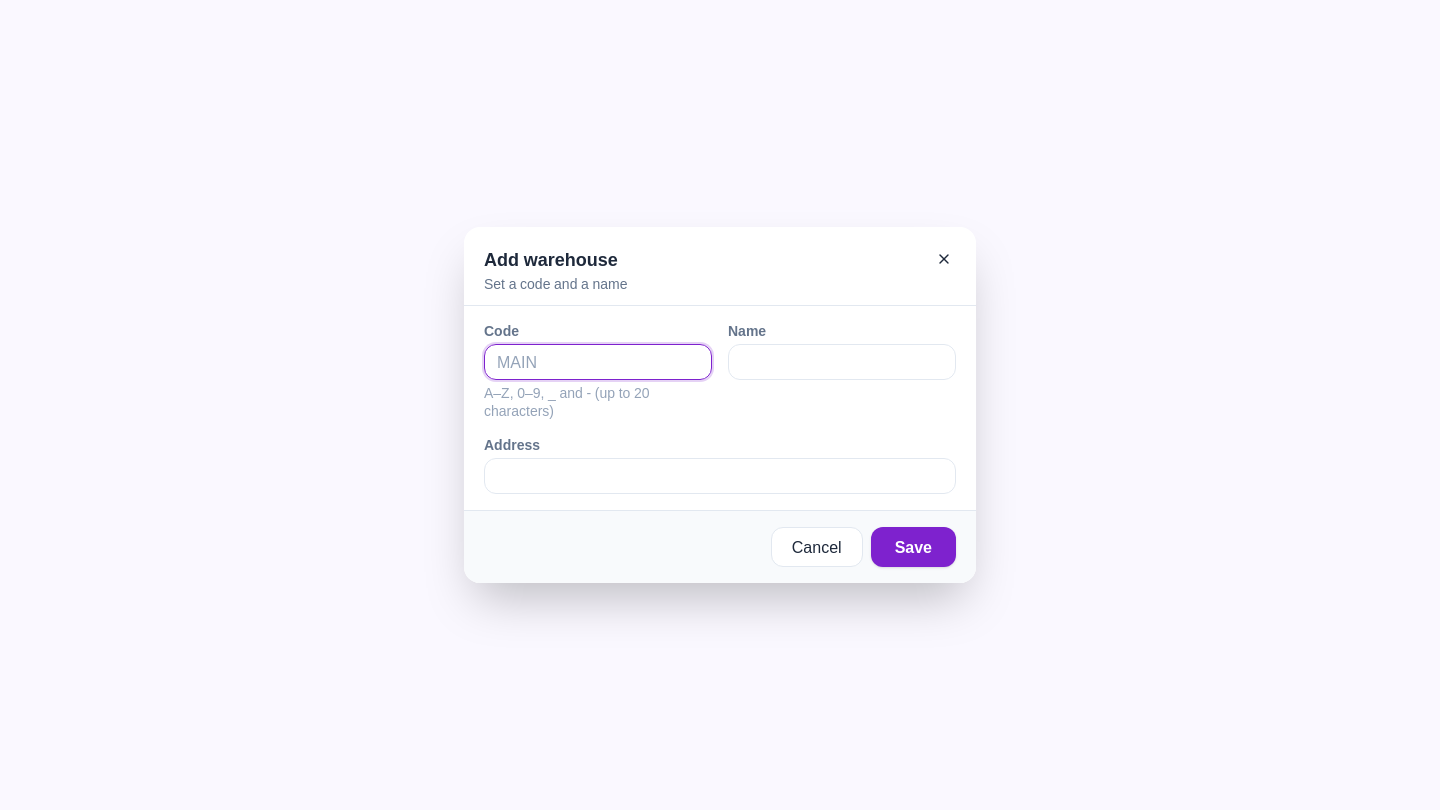
Test case: WarehouseFormDialog › ລະຫັດຜິດຮູບແບບ ບໍ່ສົ່ງ API ແລະ ສະແດງ error ຂອງ field
In the field labelled "Code": {"x": 598, "y": 362} [484,344,712,380], type "bad code!"
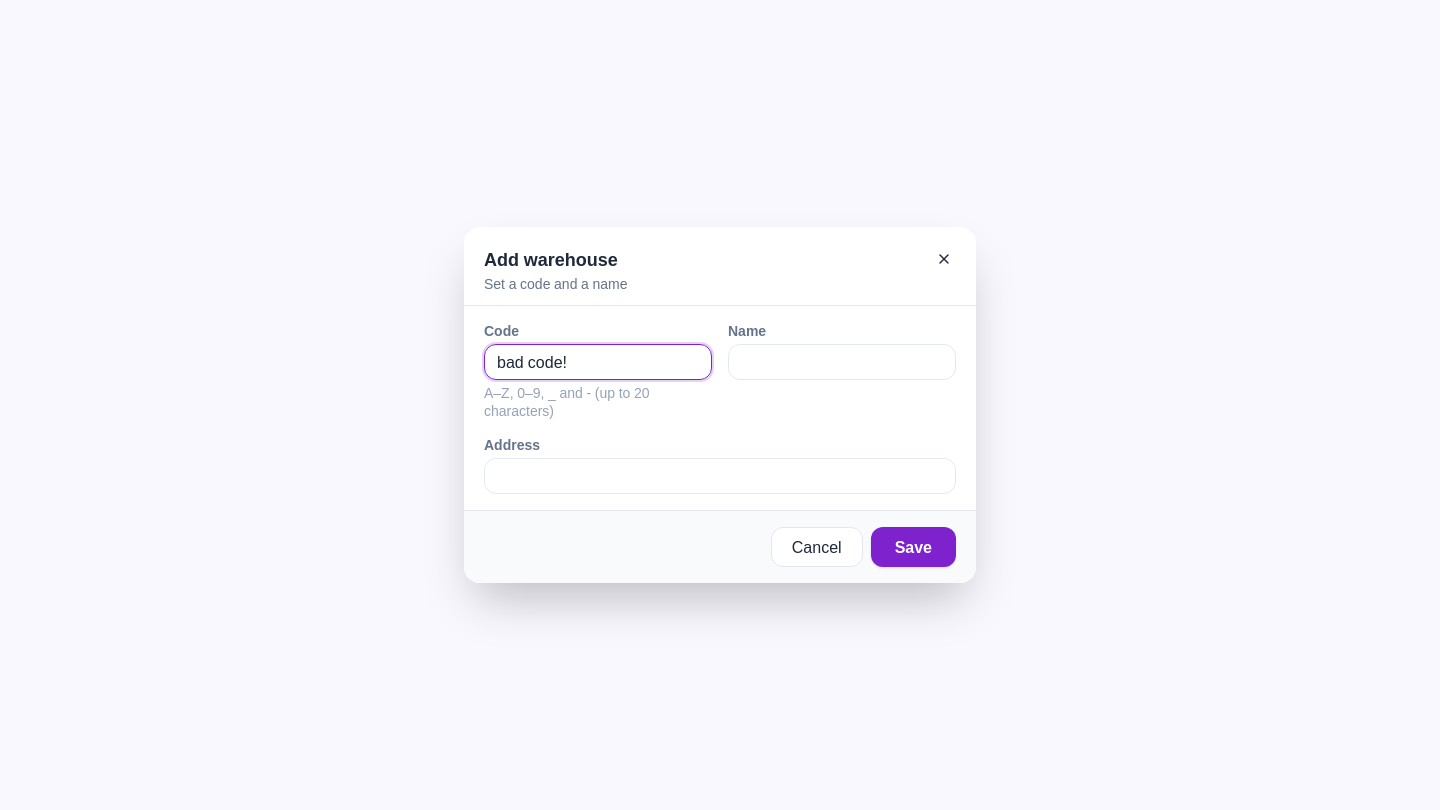
In the field labelled "Name": {"x": 842, "y": 362} [728,344,956,380], type "X"
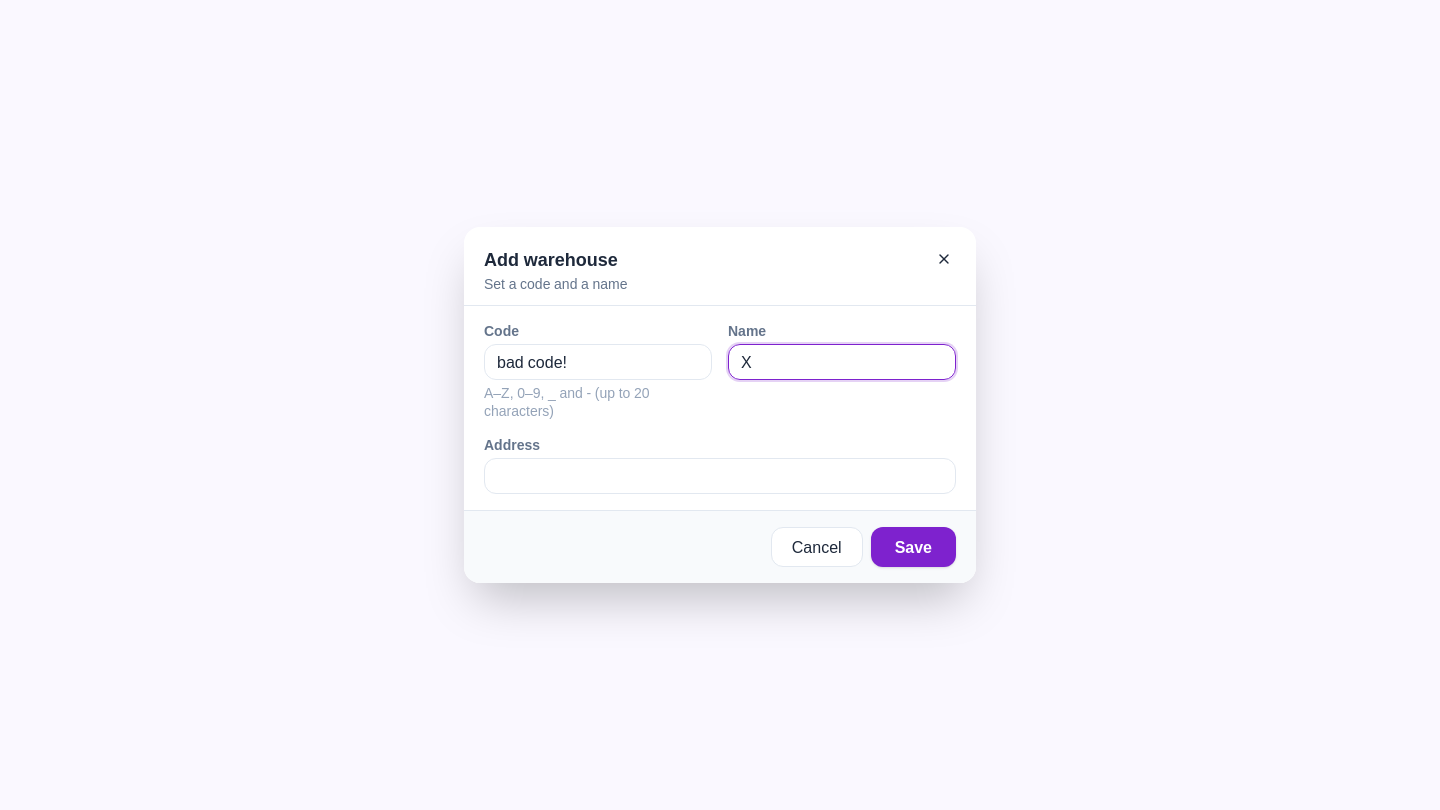
Click the button "Save": {"x": 913, "y": 547} [871,527,956,567]
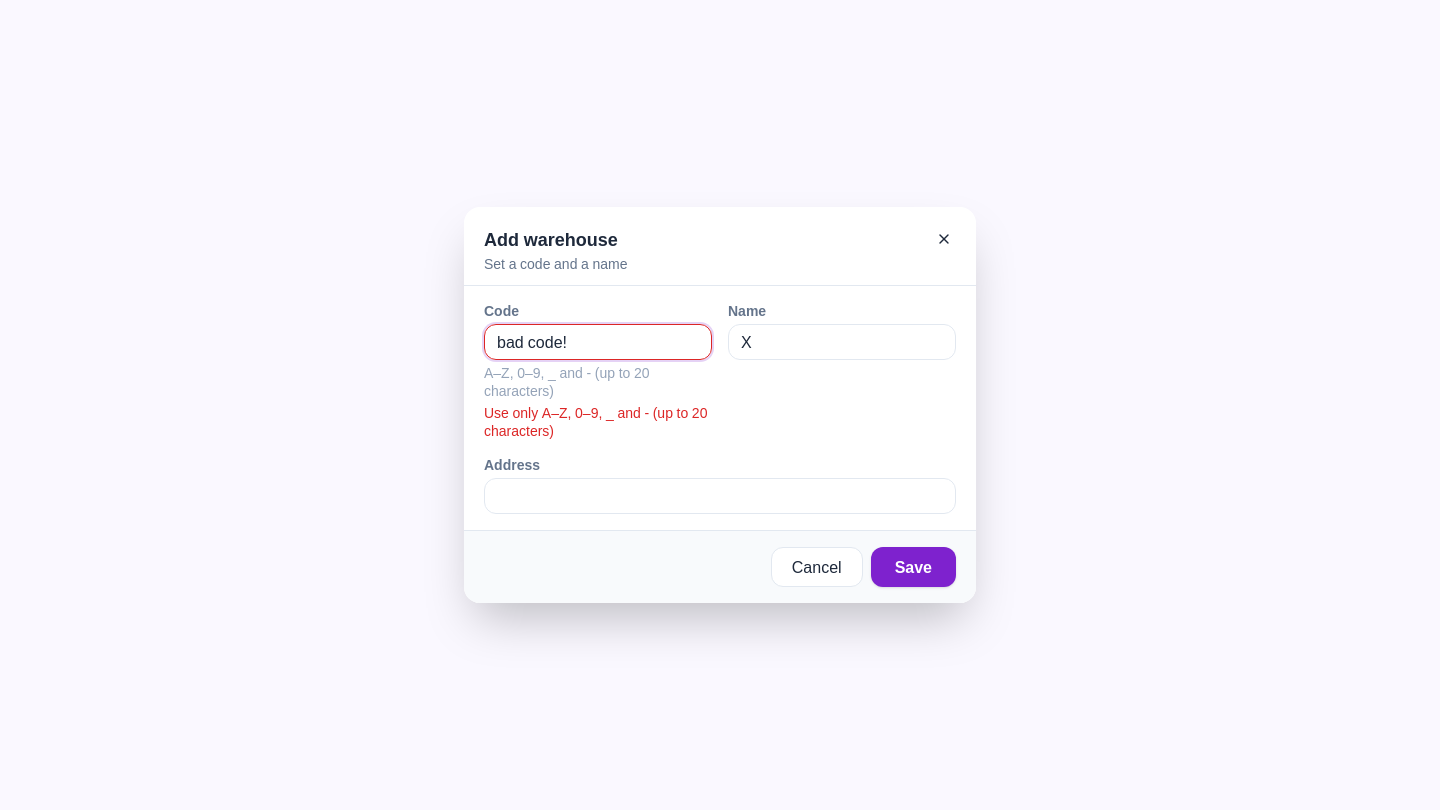
Now the text "Use only A–Z, 0–9, _ and - (up to 20 characters)" is shown, box [484,404,712,440]
